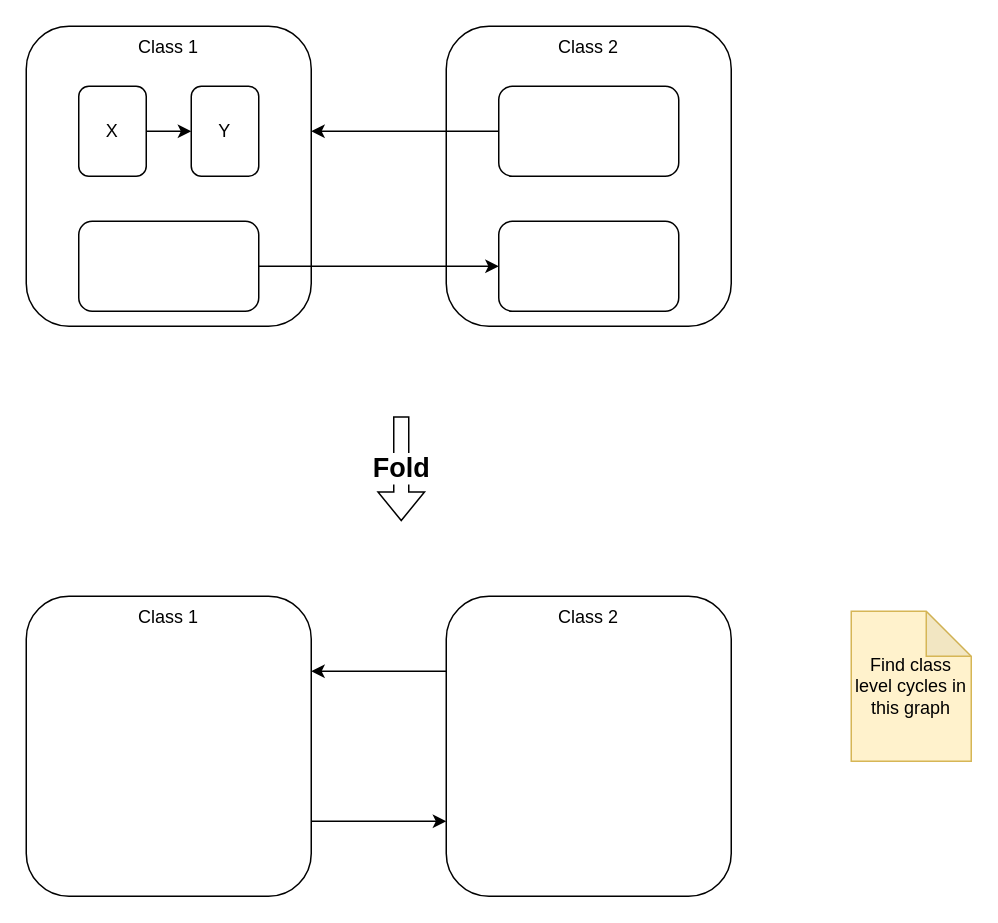
The diagram is 998 pixels wide and 923 high, and some of its shapes have lost their labels. Each missing label, with the centre of its shape:
F1: the point at 588,130
M1: the point at 168,265
M2: the point at 588,265
